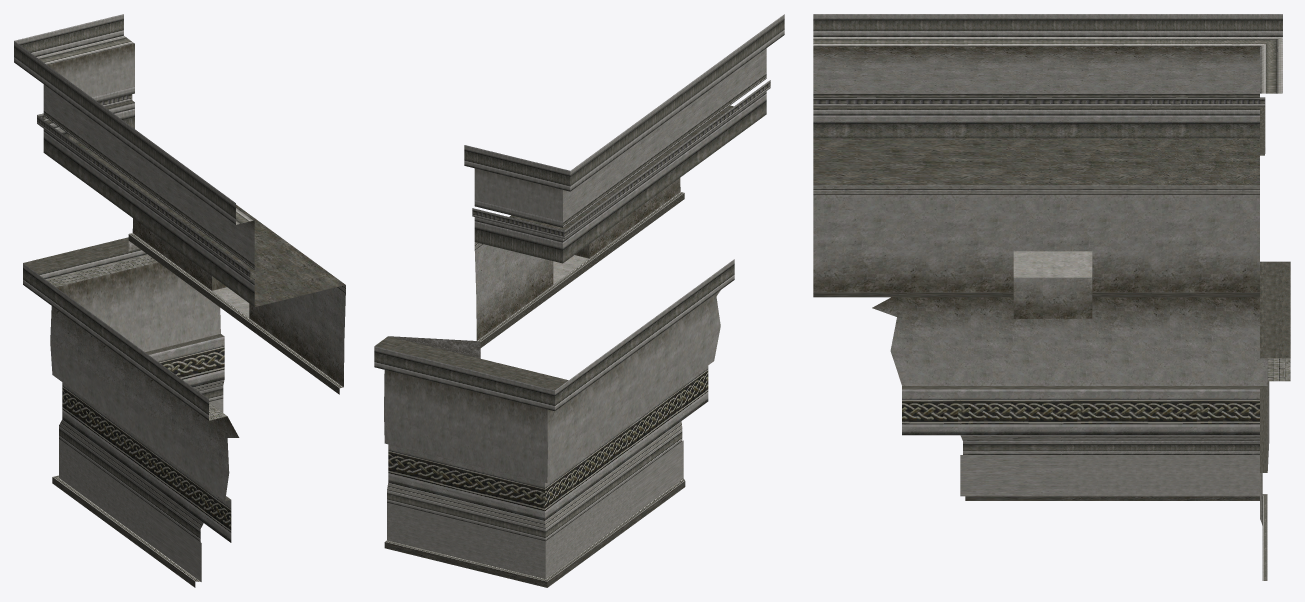
File: DWARF_PALACE_FORGE_WALL01BA.fbx
3 views of the same model, side by side, from view 1: azimuth 30°, elevation 25°; view 2: azimuth 150°, elevation 25°; view 3: azimuth 270°, elevation 25° (orthographic). The views are drawn at different scales.
Parts seen in each view (by area): view 1: DWARF_PALACE_FORGE_WALL01BA; view 2: DWARF_PALACE_FORGE_WALL01BA; view 3: DWARF_PALACE_FORGE_WALL01BA.
Part boxes in pixels (x1,y1,x2,y2): DWARF_PALACE_FORGE_WALL01BA: (14, 14, 345, 587); DWARF_PALACE_FORGE_WALL01BA: (374, 14, 784, 587); DWARF_PALACE_FORGE_WALL01BA: (813, 14, 1290, 580).
Size of the model in its own units: 96254 by 205000 by 188277.
Materials: 9 (9 with a texture image).
